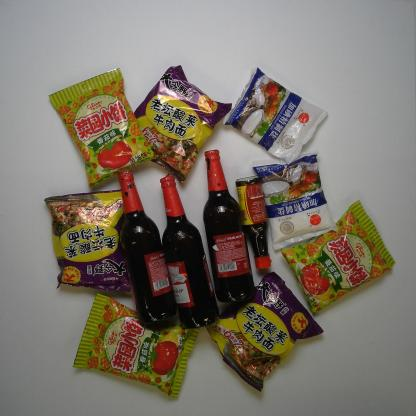Alcohol: (114, 168, 184, 328), (158, 175, 219, 331), (200, 147, 258, 307)
Instant Noodles: (204, 268, 326, 394), (130, 63, 235, 184), (38, 188, 136, 295)
Puffed Food: (71, 291, 203, 400), (46, 66, 162, 190), (280, 199, 397, 316)
Seasoner: (221, 63, 332, 166), (244, 150, 342, 254), (236, 174, 275, 274)
